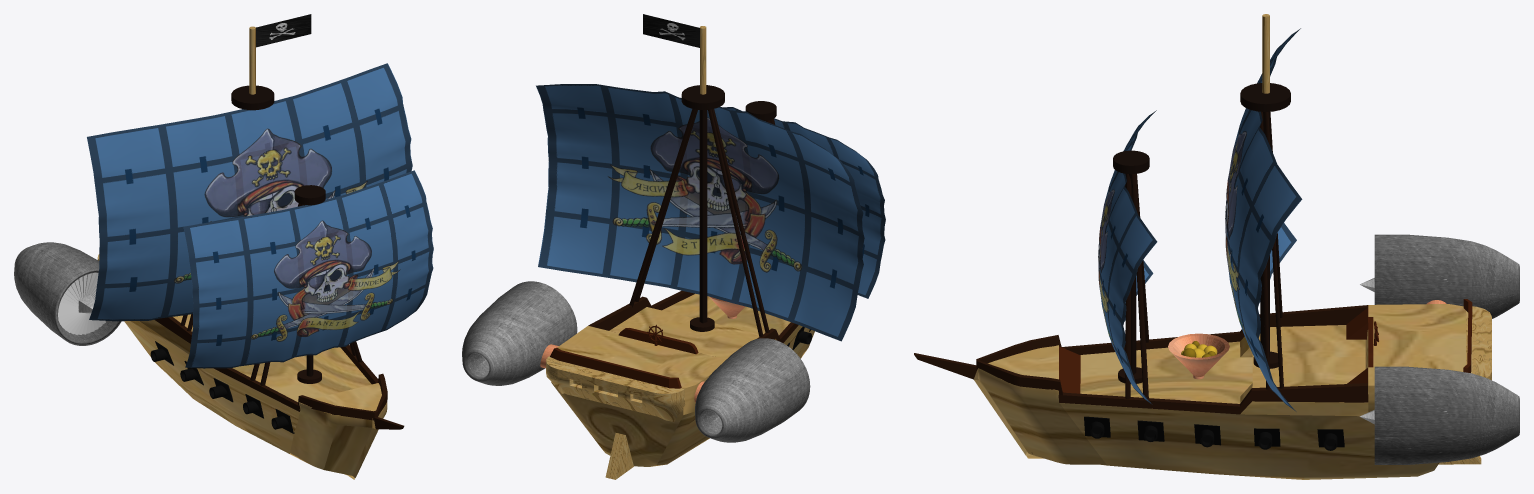
File: ship0.obj
The picture shows the model from 3 angles, left to right: view 1: azimuth 30°, elevation 25°; view 2: azimuth 150°, elevation 25°; view 3: azimuth 270°, elevation 25°; orthographic projection. The views are drawn at different scales.
Visible parts, largest first — view 1: pPlane14, pPlane13, boatBase, pPlane16, pPlane15, pPipe118, pCube2, pCylinder46, pPlane8, pCylinder4, pCylinder44, pPlane12; view 2: pPlane14, pPlane16, boatBase, pPipe118, pPipe117, pCube20, pPlane13, pCylinder47, pCube8, pPlane15, pPipe3, pPipe4 (+9 smaller); view 3: boatBase, pPipe117, pPlane14, pPipe118, pPlane13, pPlane16, pCube2, pPlane15, pCube20, pCone3, pCylinder46, pPipe50 (+4 smaller).
Part boxes in pixels (x1,y1,x2,y2): pPlane14: [87, 63, 412, 321]; pPlane13: [183, 170, 433, 368]; boatBase: [124, 314, 404, 479]; pPlane16: [87, 64, 410, 320]; pPlane15: [184, 171, 432, 367]; pPipe118: [14, 242, 121, 345]; pCube2: [298, 373, 387, 420]; pCylinder46: [231, 85, 274, 110]; pPlane8: [256, 16, 311, 47]; pCylinder4: [294, 185, 325, 205]; pCylinder44: [249, 26, 255, 94]; pPlane12: [256, 14, 311, 46]; pPlane14: [536, 84, 864, 341]; pPlane16: [536, 84, 864, 339]; boatBase: [551, 290, 814, 466]; pPipe118: [695, 338, 810, 442]; pPipe117: [462, 281, 577, 385]; pCube20: [546, 356, 685, 421]; pPlane13: [723, 107, 885, 298]; pCylinder47: [699, 110, 707, 323]; pCube8: [550, 347, 681, 388]; pPlane15: [724, 107, 885, 297]; pPipe3: [708, 109, 763, 336]; pPipe4: [712, 109, 769, 332]; boatBase: [914, 304, 1472, 479]; pPipe117: [1374, 366, 1519, 464]; pPlane14: [1225, 28, 1302, 411]; pPipe118: [1374, 234, 1519, 318]; pPlane13: [1098, 110, 1157, 404]; pPlane16: [1225, 30, 1301, 405]; pCube2: [976, 335, 1063, 396]; pPlane15: [1098, 112, 1155, 403]; pCube20: [1466, 306, 1491, 380]; pCone3: [1168, 333, 1229, 376]; pCylinder46: [1240, 83, 1290, 111]; pPipe50: [1131, 174, 1148, 398].
Size of the model in its own units: 16.4 by 19.1 by 23.45.
13 materials, 5 textured.
